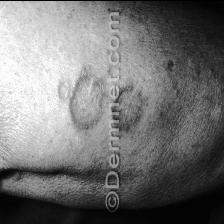Unclassified: (58, 71, 106, 130), (114, 84, 144, 132)
